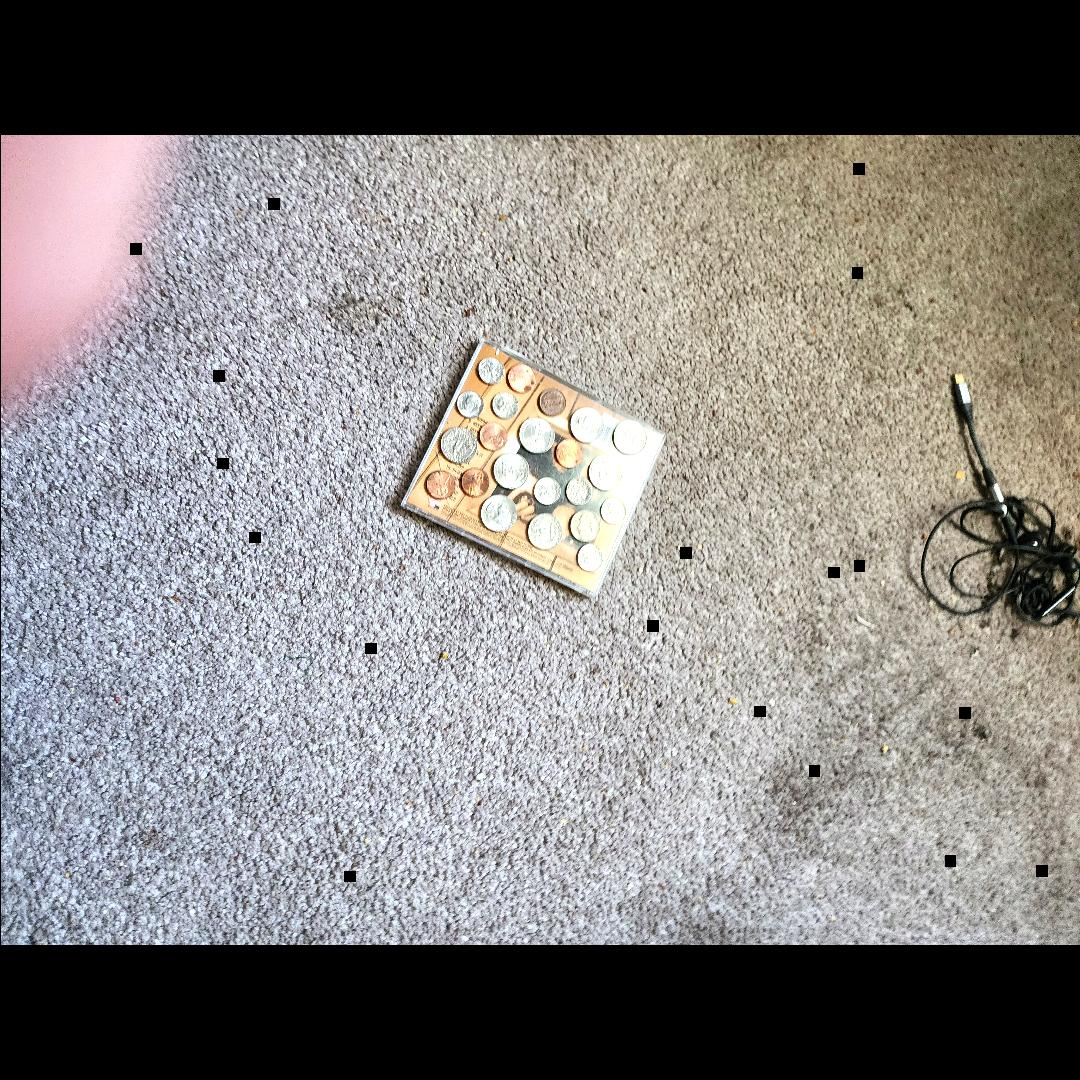Dime: (476, 359, 502, 385), (491, 393, 517, 419), (534, 478, 560, 504), (600, 498, 624, 524), (576, 546, 602, 570), (456, 392, 480, 416), (566, 478, 590, 502)
Nickel: (568, 510, 600, 542)
Penny: (426, 470, 454, 500), (459, 469, 488, 497), (537, 388, 565, 416), (479, 422, 507, 450), (554, 440, 581, 468), (507, 364, 533, 392)
Quarter: (478, 496, 516, 532), (566, 409, 602, 445), (492, 454, 528, 488), (441, 428, 477, 462), (520, 418, 554, 453), (589, 454, 622, 490), (611, 421, 645, 455), (527, 516, 561, 548)
